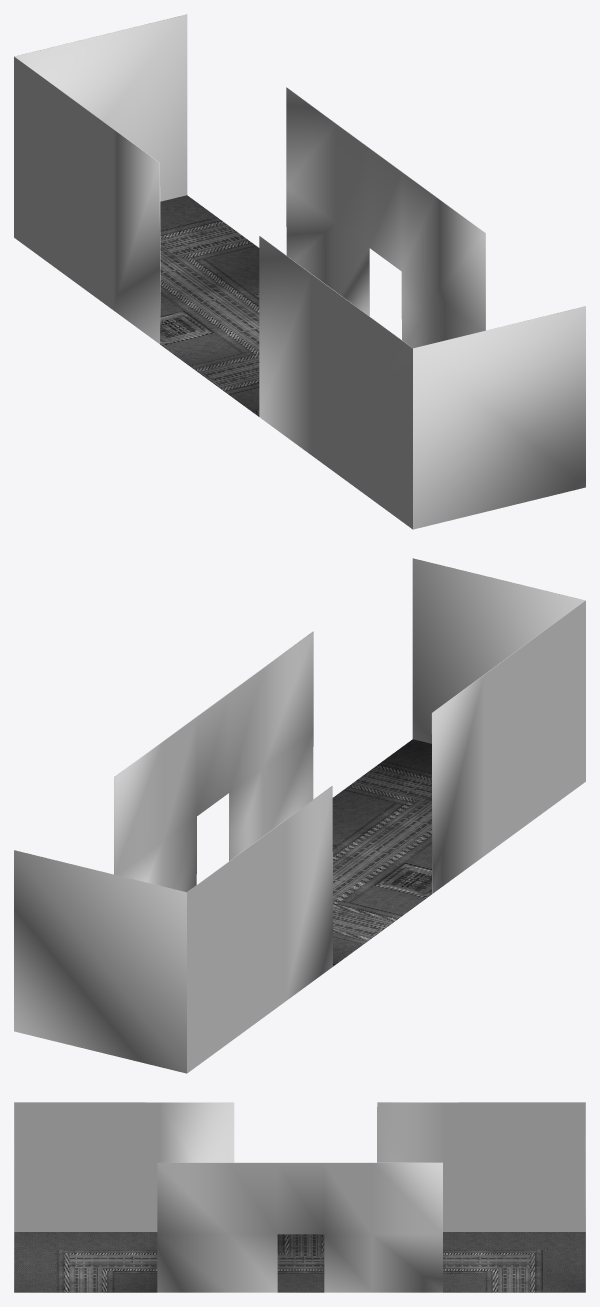
File: corridor_c-3.fbx
The picture shows the model from 3 angles, top to bottom: view 1: azimuth 30°, elevation 25°; view 2: azimuth 150°, elevation 25°; view 3: azimuth 270°, elevation 25°; orthographic projection. The views are drawn at different scales.
Visible parts, largest first — view 1: corridor C-3; view 2: corridor C-3; view 3: corridor C-3.
Boxes of the visible parts, bbox=[...] form: corridor C-3: bbox=[14, 14, 585, 529]; corridor C-3: bbox=[14, 558, 585, 1073]; corridor C-3: bbox=[14, 1102, 585, 1292].
Bounding box in the file's own units: 361 × 361 × 1443.
